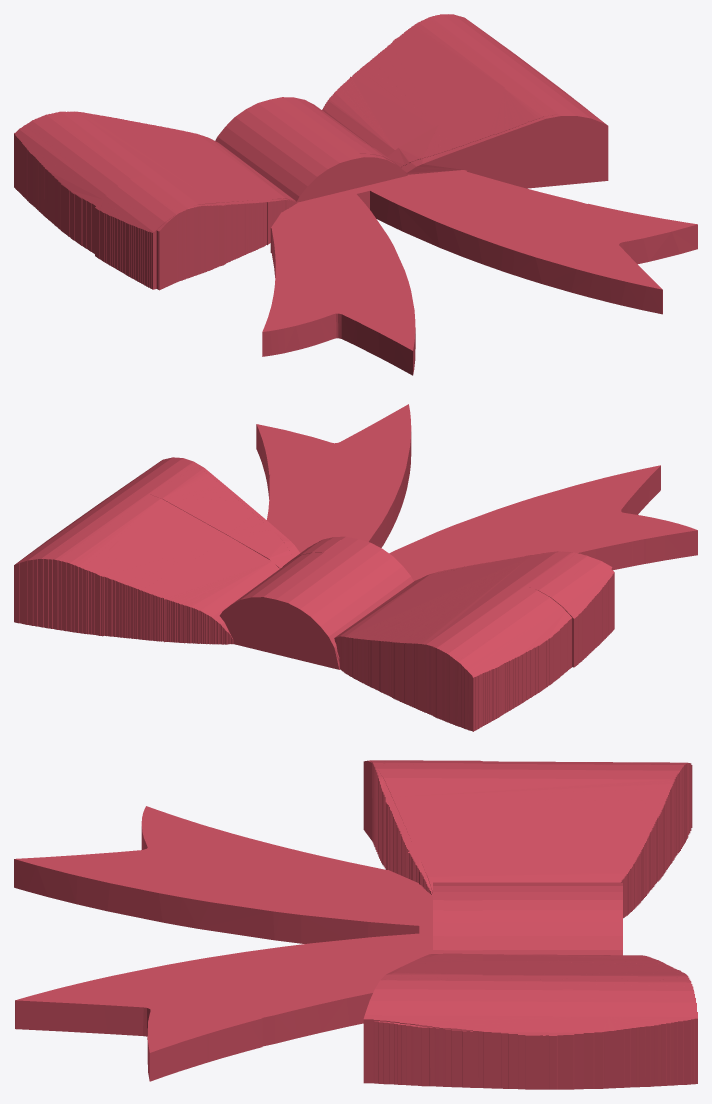
File: bow.glb
3 views of the same model, one above another, from view 1: azimuth 30°, elevation 25°; view 2: azimuth 150°, elevation 25°; view 3: azimuth 270°, elevation 25° (orthographic). The views are drawn at different scales.
Visible parts, largest first — view 1: Mesh_Mesh_head_geo.001_lambert2SG.001; view 2: Mesh_Mesh_head_geo.001_lambert2SG.001; view 3: Mesh_Mesh_head_geo.001_lambert2SG.001.
Boxes of the visible parts, bbox=[...] form: Mesh_Mesh_head_geo.001_lambert2SG.001: bbox=[14, 14, 697, 375]; Mesh_Mesh_head_geo.001_lambert2SG.001: bbox=[14, 404, 697, 731]; Mesh_Mesh_head_geo.001_lambert2SG.001: bbox=[14, 760, 697, 1089].
Size of the model in its own units: 50 by 7 by 53.99.
